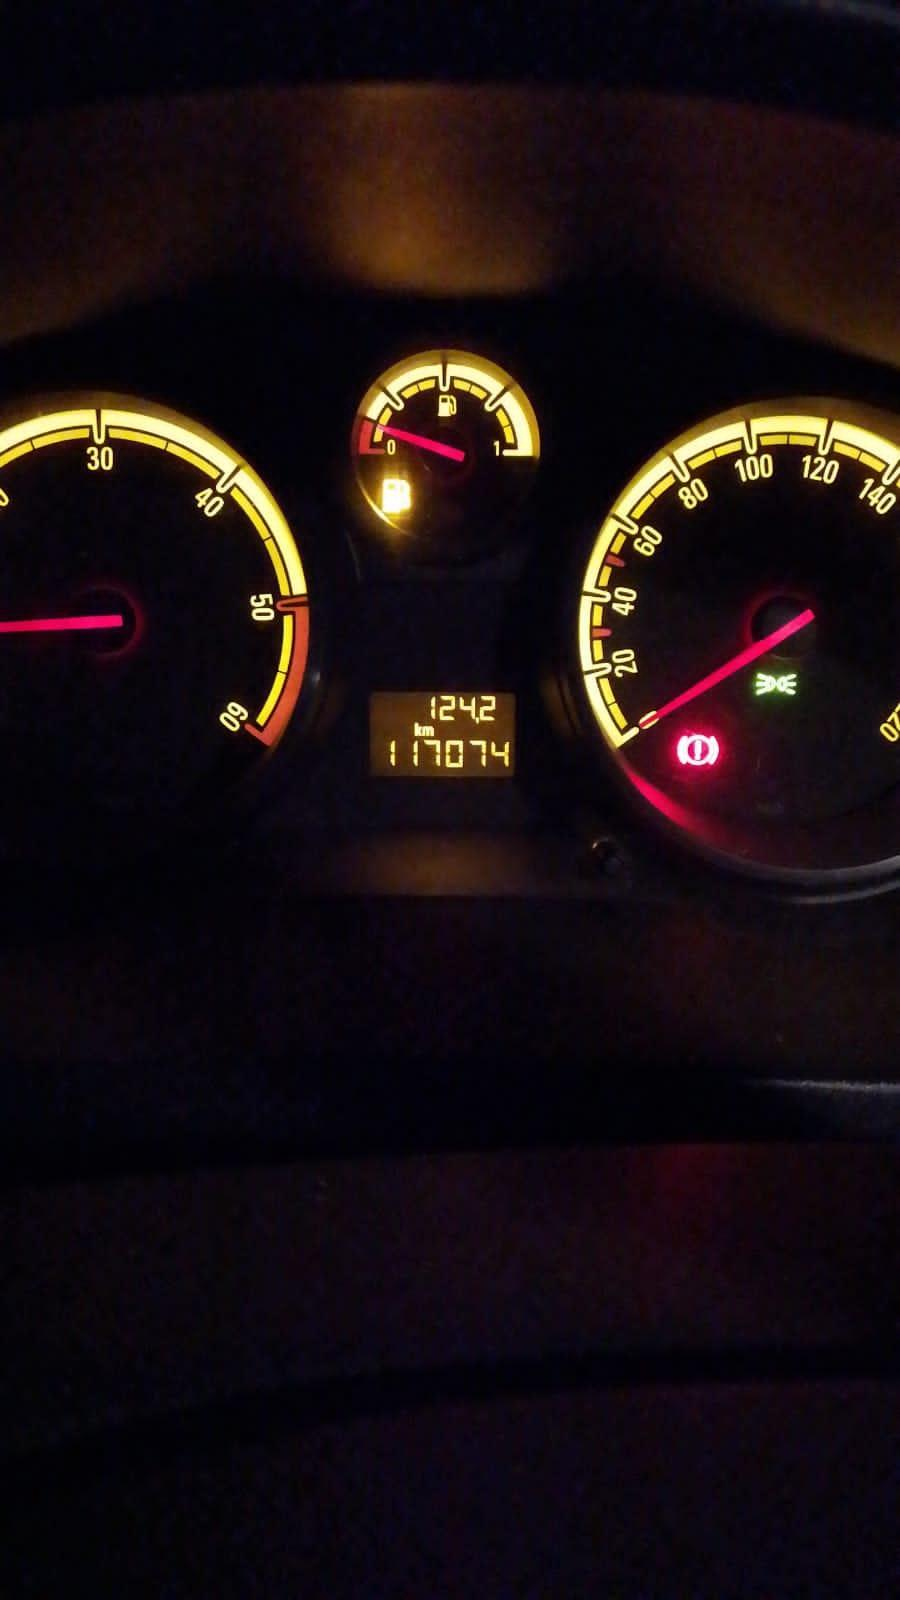,: (474, 716, 480, 725)
0: (444, 738, 464, 768)
1: (388, 738, 397, 767), (411, 738, 419, 768), (429, 695, 437, 720)
2: (479, 695, 497, 721), (438, 695, 456, 720)
4: (490, 740, 510, 768), (458, 695, 475, 720)
7: (468, 738, 487, 768), (422, 738, 441, 767)
X: (412, 721, 422, 737), (421, 725, 434, 737)
odometer: (365, 687, 520, 781)
